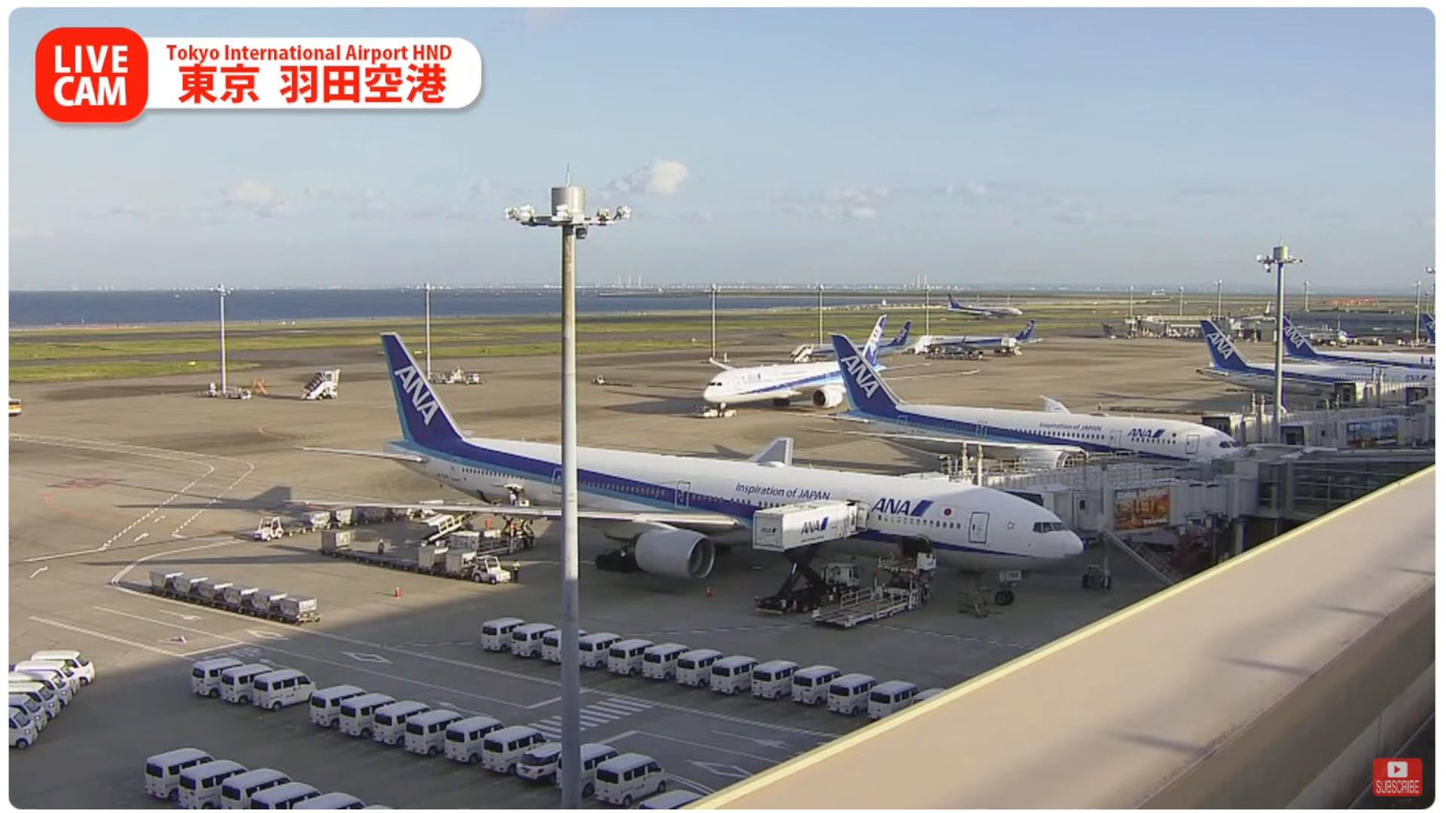Aerobridge: (1002, 452, 1258, 588), (892, 443, 1211, 486)
Airplane: (279, 333, 1086, 605)
Catering: (753, 498, 860, 616)
Dolly: (150, 586, 320, 624), (320, 549, 470, 581), (283, 513, 438, 534)
JCPL: (811, 553, 935, 628), (476, 511, 536, 556)
Skyloader: (418, 510, 482, 545)
Tractor: (471, 553, 510, 586), (254, 517, 283, 543)
ULD: (280, 594, 318, 617), (222, 584, 259, 606), (252, 588, 287, 610), (418, 544, 449, 568), (171, 574, 208, 593), (149, 569, 184, 589), (198, 579, 233, 599), (447, 549, 476, 573), (322, 528, 351, 550), (451, 530, 479, 549), (301, 510, 330, 526), (330, 506, 355, 522), (357, 507, 388, 518), (420, 499, 445, 512), (390, 507, 417, 516)
Window: (1291, 461, 1433, 515)
